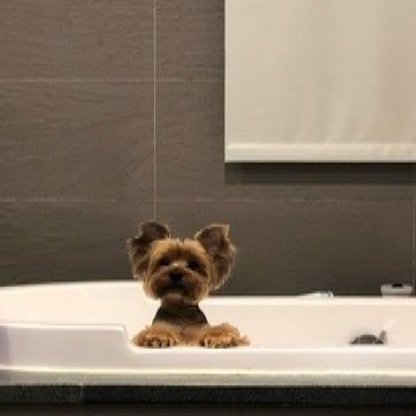yorkshire: (125, 219, 252, 351)
